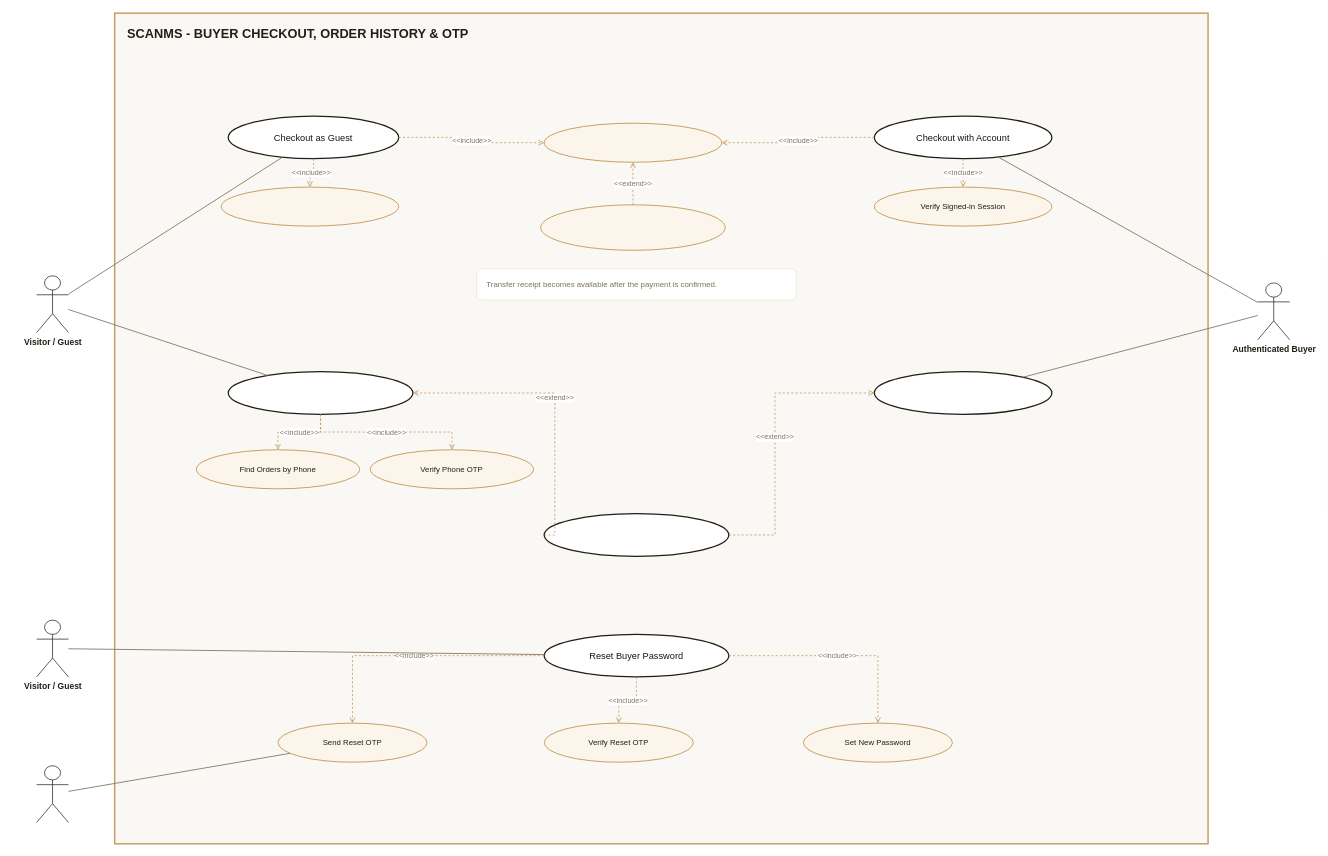
The diagram is 1328 pixels wide and 856 high, and some of its shapes have lost their labels. Each missing label, with the box of its shape:
Email / SMS Service: (36, 765, 69, 823)
Provide Phone & Email: (220, 186, 399, 226)
Select Payment: (543, 122, 722, 162)
Upload Transfer Proof (manual bank transfer): (540, 204, 725, 250)
View / Download Transfer Receipt: (543, 513, 729, 557)
View Guest Order History: (227, 371, 413, 415)
View My Order History: (873, 371, 1052, 415)
